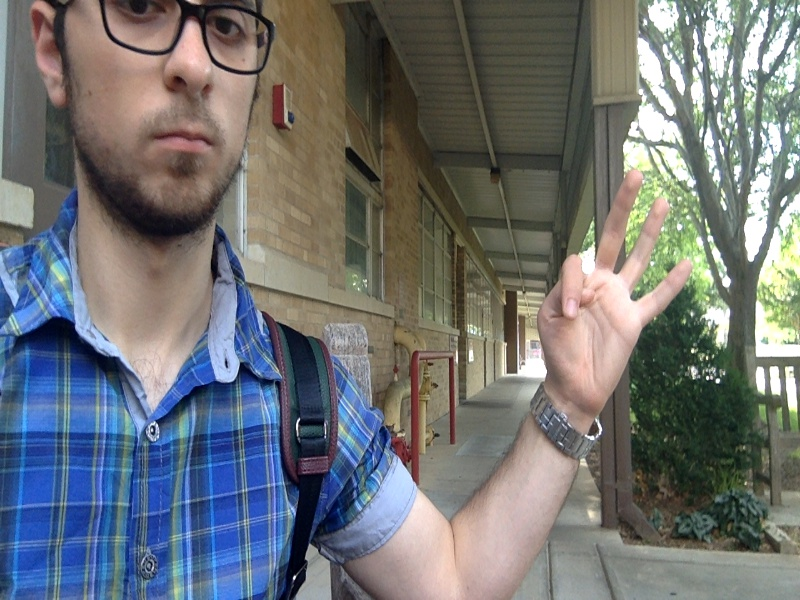3-hand: (535, 168, 690, 412)
